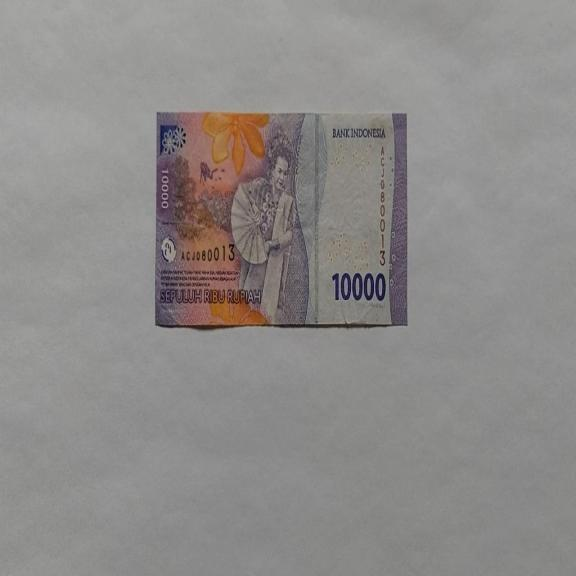Kertas: (154, 110, 408, 330), (330, 270, 387, 302)
